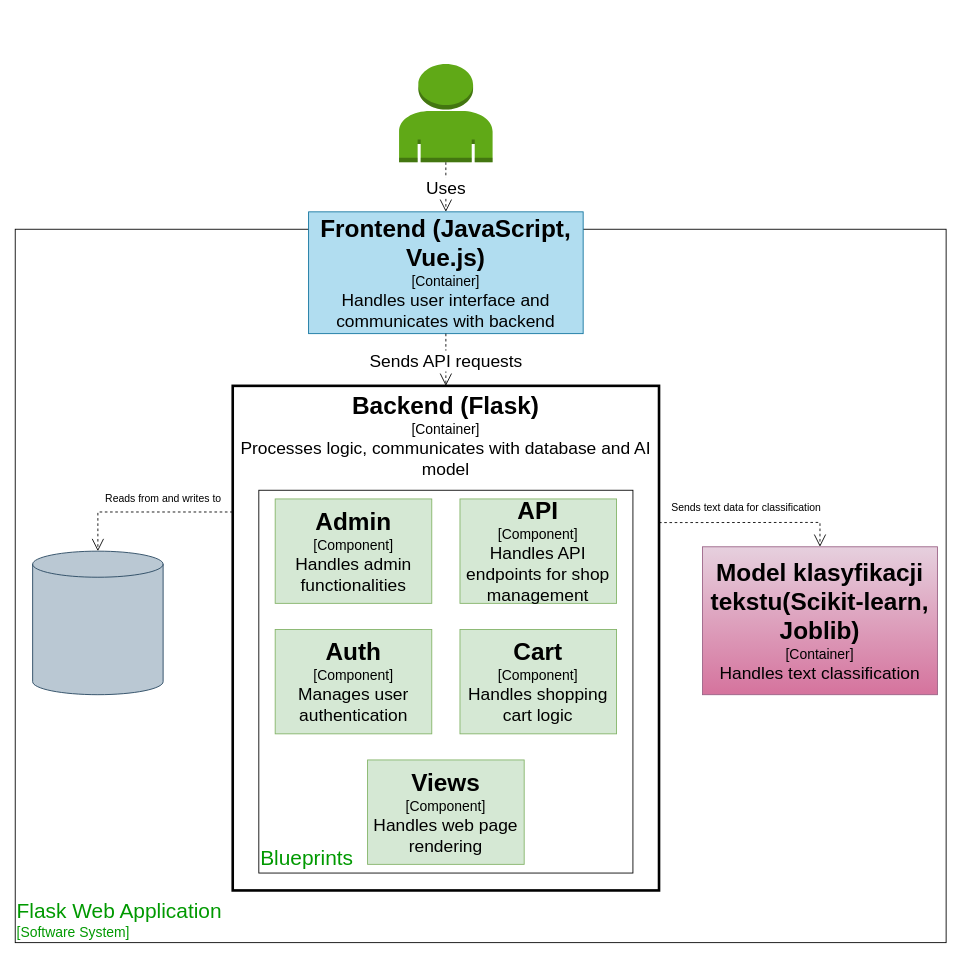
This 961x958 diagram has some shape labels left out. Here are the shapes that lost their labels. From the top down, the centre of each, then its label:
(445,112): User [Person ]
(97,622): MySQL Database Stores user data and transactions
